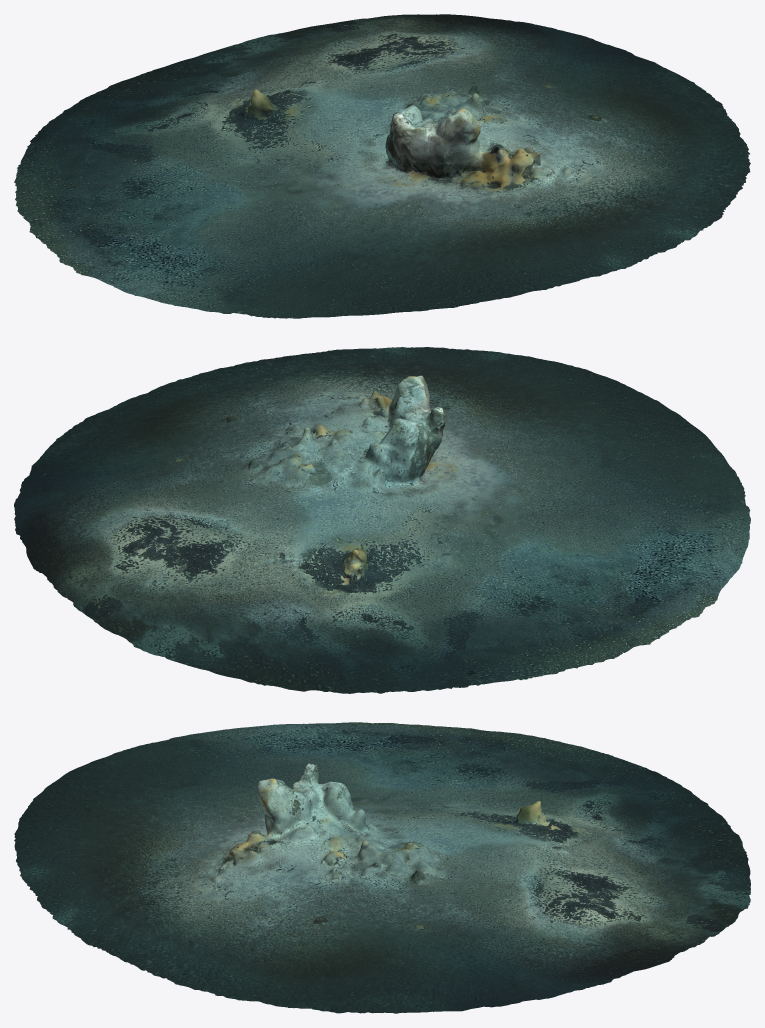
File: ocean_floor.obj
3 renders of one model, top to bottom at view 1: azimuth 30°, elevation 25°; view 2: azimuth 150°, elevation 25°; view 3: azimuth 270°, elevation 25°, orthographic.
Visible parts, largest first — view 1: Model; view 2: Model; view 3: Model.
Part boxes in pixels (left/top/right/bottom): Model: left=14, top=14, right=750, bottom=318; Model: left=14, top=347, right=750, bottom=693; Model: left=14, top=722, right=750, bottom=1013.
Bounding box in the file's own units: 28.8 × 4.99 × 28.56.
Materials: 4 (4 with a texture image).
